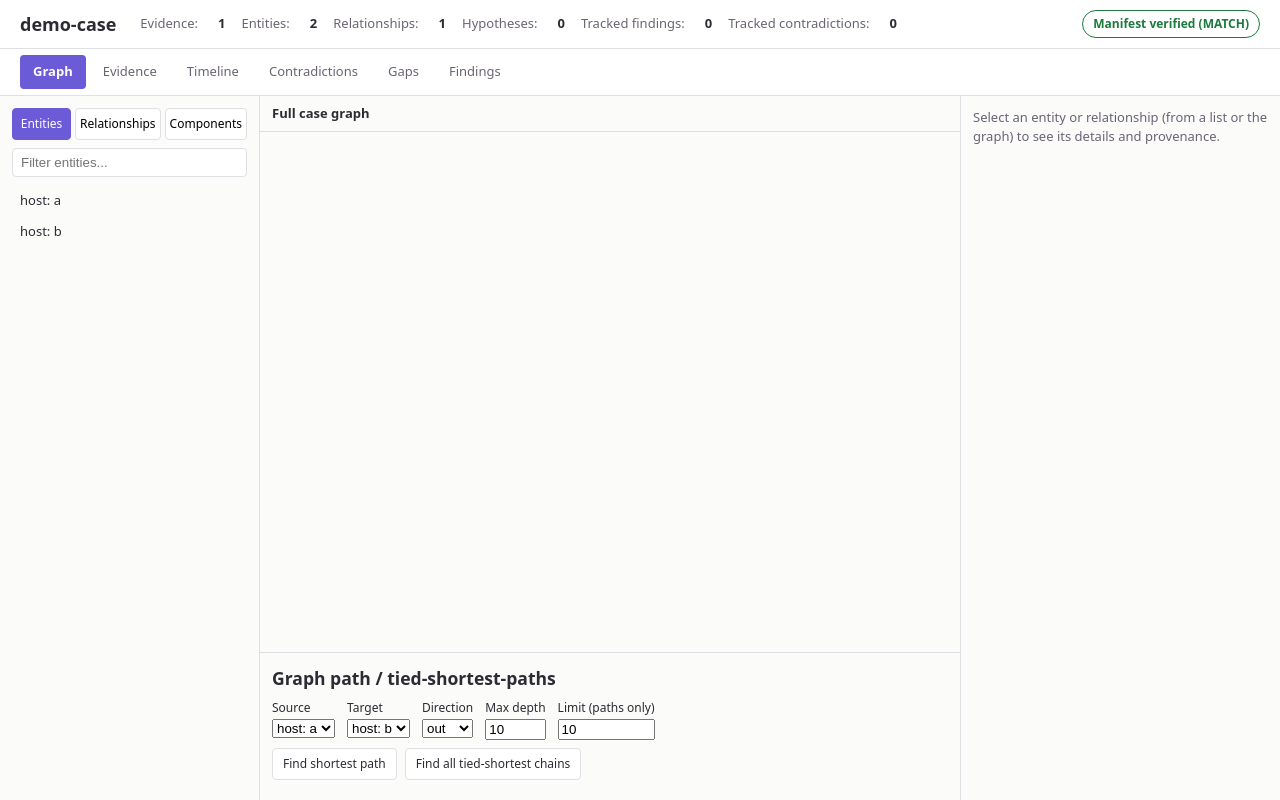
Test case: App › top-nav switches to the Evidence view
The image size is (1280, 800).
Expected: the header with test id "case-header" is shown, [0,0,1279,49]
Expected: the text "Full case graph" is shown, [272,104,370,123]
Click the button "Evidence" at (130, 72), box [90,55,170,88]
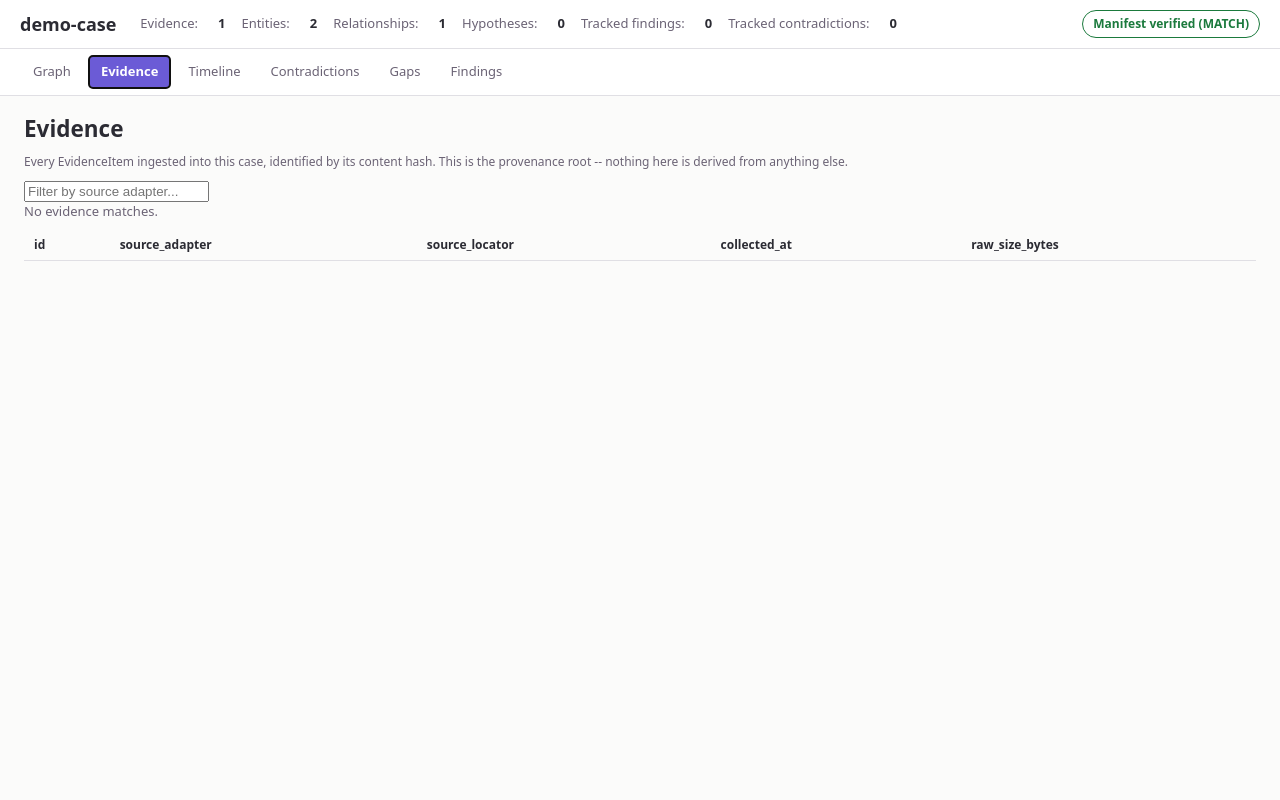
Expected: the element with test id "evidence-panel" is shown, [24,112,1256,261]
Expected: the text with test id "graph-mode-label" is gone
